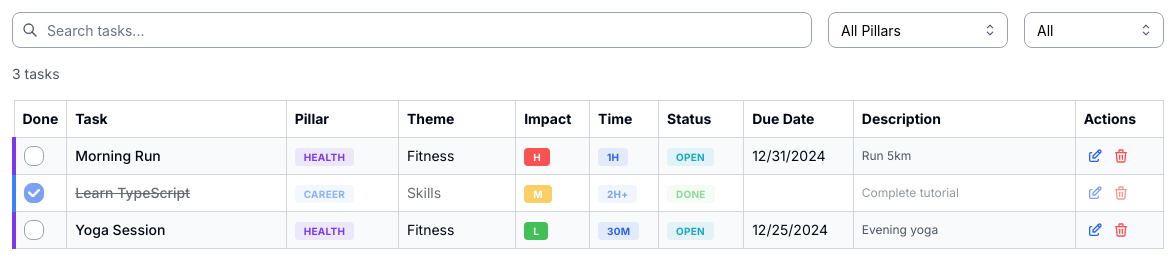
Scenario: AllTasksGrid › Filtering › searches in task descriptions
In the field with placeholder "Search tasks...": (412, 30) [12,12,812,48], type "tutorial"
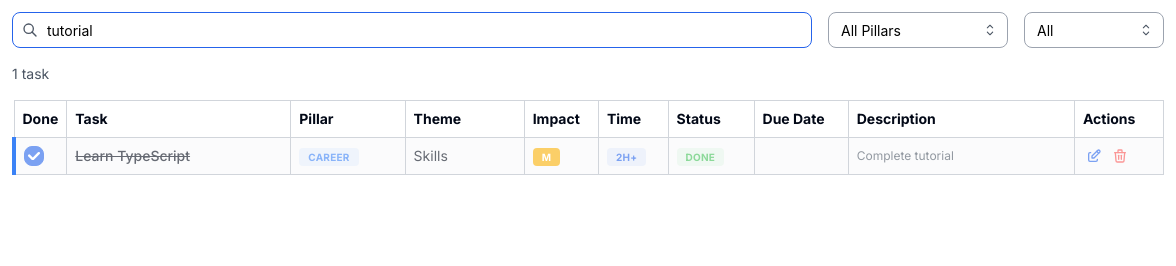
Check: the text "Learn TypeScript" is shown, box [75,147,190,164]
Check: the text "Morning Run" is gone
